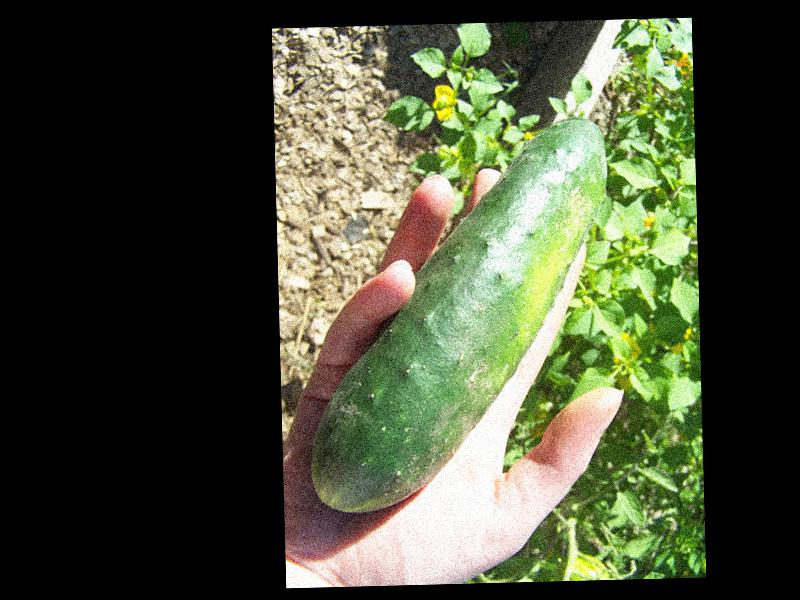Cucumber: (304, 115, 614, 512)
